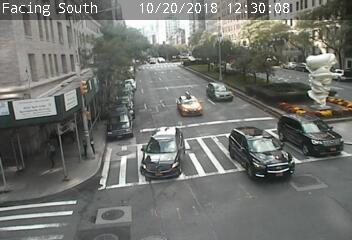car: (228, 126, 294, 183), (277, 113, 344, 157), (140, 126, 184, 179), (176, 92, 202, 116), (207, 82, 233, 102)
